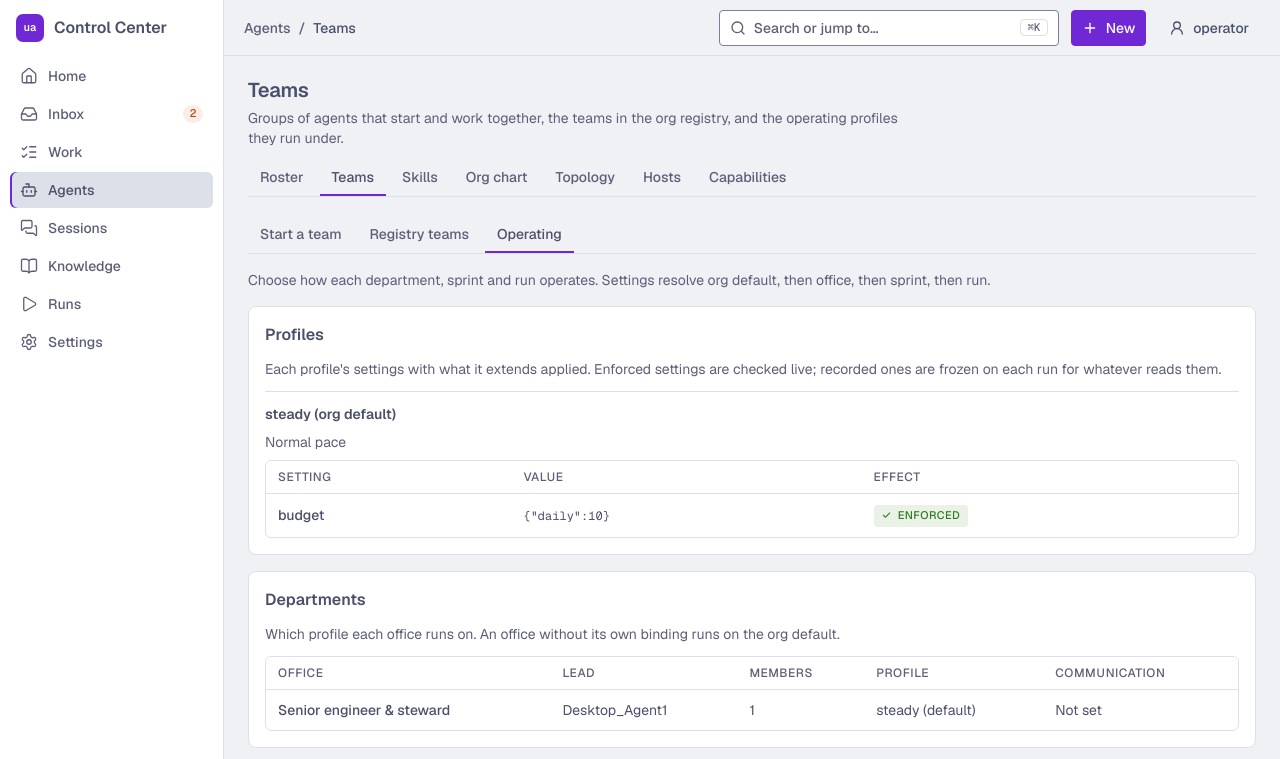
Test: agents: teams › shows registry teams and operating profiles in their tabs (legacy operating view)
Expected: the table named "Operating profile per office" shows "steady (default)", [876,700,976,718]
Click the tab "Registry teams" at (419, 235), box [358,217,481,253]
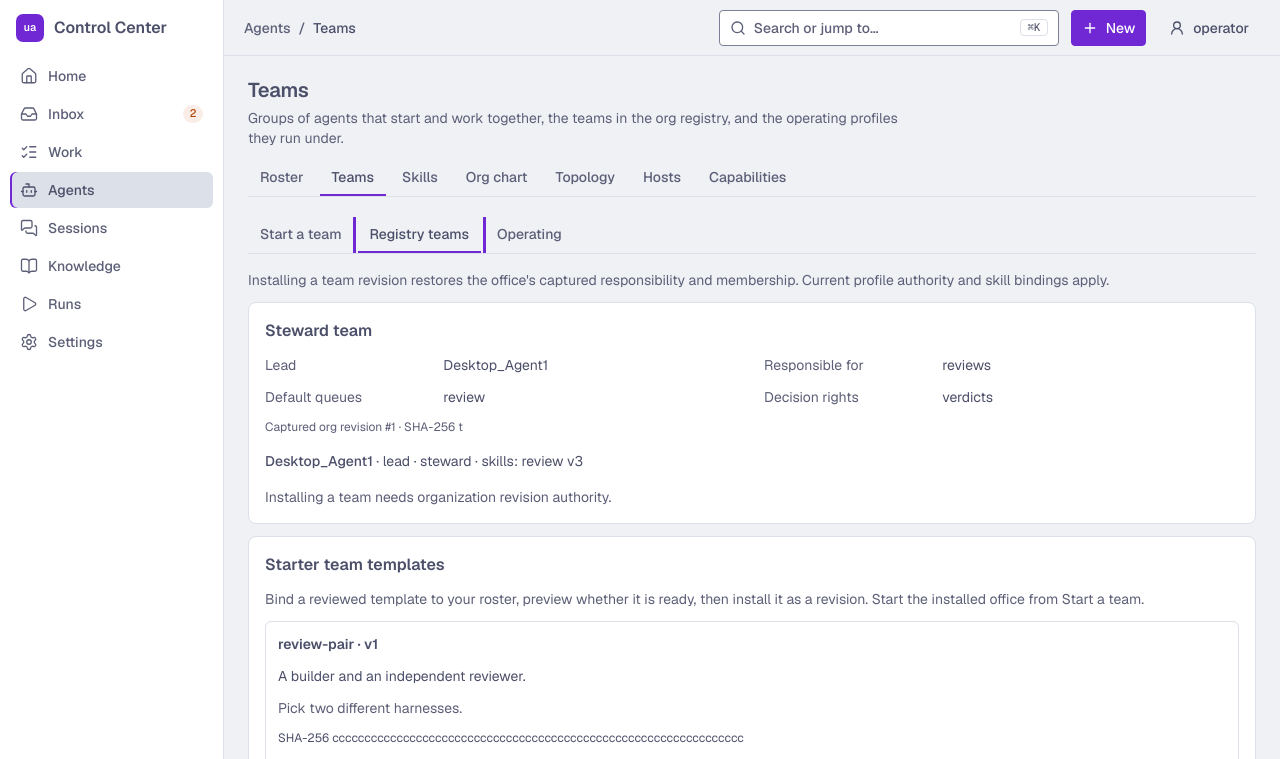
Expected: the element "Steward team" shows "review v3", [472,452,583,470]
